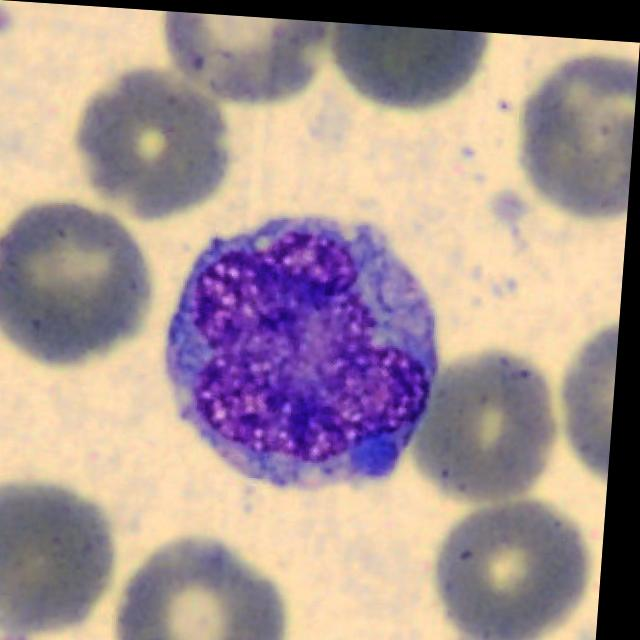Monocito: (169, 210, 446, 483)
